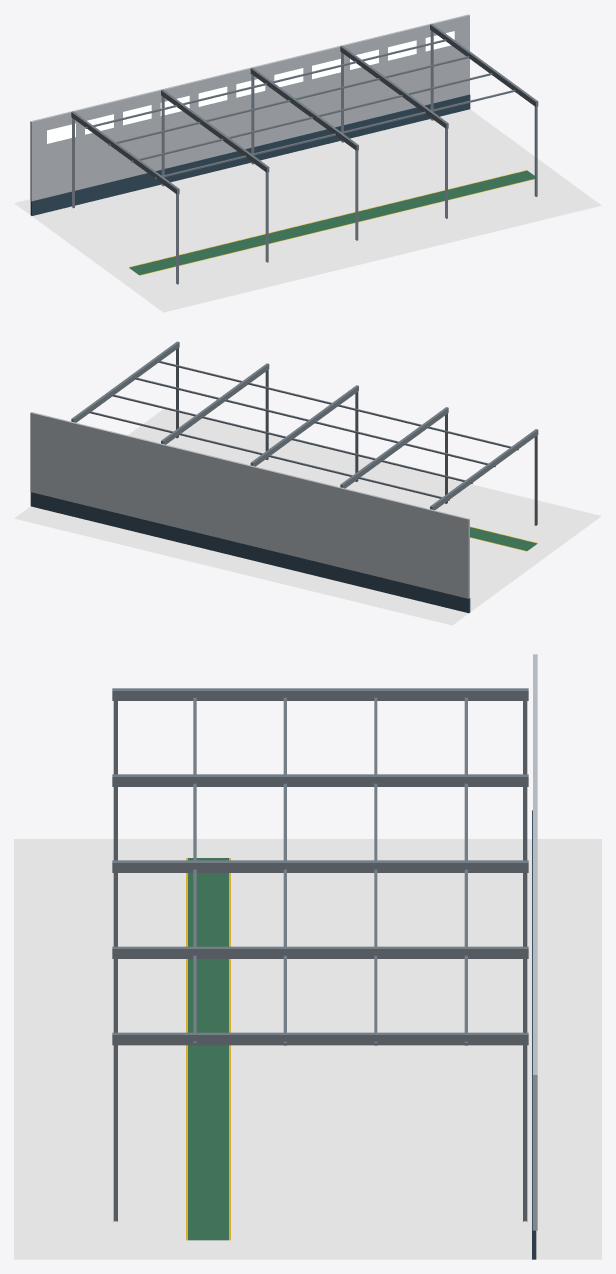
File: hall.glb
3 renders of one model, top to bottom at view 1: azimuth 30°, elevation 25°; view 2: azimuth 150°, elevation 25°; view 3: azimuth 270°, elevation 25°, orthographic. The views are drawn at different scales.
Parts seen in each view (by area): view 1: Floor__FloorEpoxy, Walls__Wall, Structure__Truss, Walls__WallLow, Walkway__Walkway, Windows__Window, Walkway__SafetyYellow; view 2: Walls__Wall, Floor__FloorEpoxy, Structure__Truss, Walls__WallLow, Walkway__Walkway; view 3: Floor__FloorEpoxy, Structure__Truss, Walkway__Walkway, Walls__Wall, Walkway__SafetyYellow.
Boxes of the visible parts, x1,y1,x2,y2 form: Floor__FloorEpoxy: (14, 109, 601, 312); Walls__Wall: (30, 14, 469, 201); Structure__Truss: (71, 24, 538, 284); Walls__WallLow: (30, 94, 470, 215); Walkway__Walkway: (129, 170, 534, 275); Windows__Window: (47, 31, 454, 143); Walkway__SafetyYellow: (129, 170, 537, 275); Walls__Wall: (30, 412, 469, 598); Floor__FloorEpoxy: (14, 409, 601, 625); Structure__Truss: (71, 341, 538, 525); Walls__WallLow: (30, 492, 470, 613); Walkway__Walkway: (470, 527, 537, 550); Floor__FloorEpoxy: (14, 839, 601, 1259); Structure__Truss: (112, 688, 528, 1221); Walkway__Walkway: (188, 858, 228, 1240); Walls__Wall: (533, 654, 537, 1230); Walkway__SafetyYellow: (186, 858, 230, 1240).
Size of the model in its own units: 44 by 9.15 by 26.
